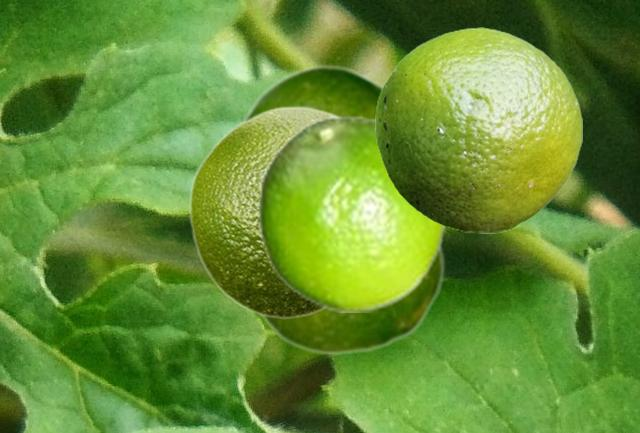calamansi: (375, 27, 581, 232), (257, 114, 446, 311), (188, 105, 338, 319), (254, 239, 445, 355), (240, 63, 382, 120)
